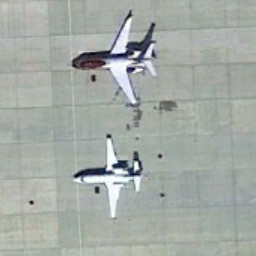Airplane: (57, 4, 183, 117), (58, 127, 162, 229)
